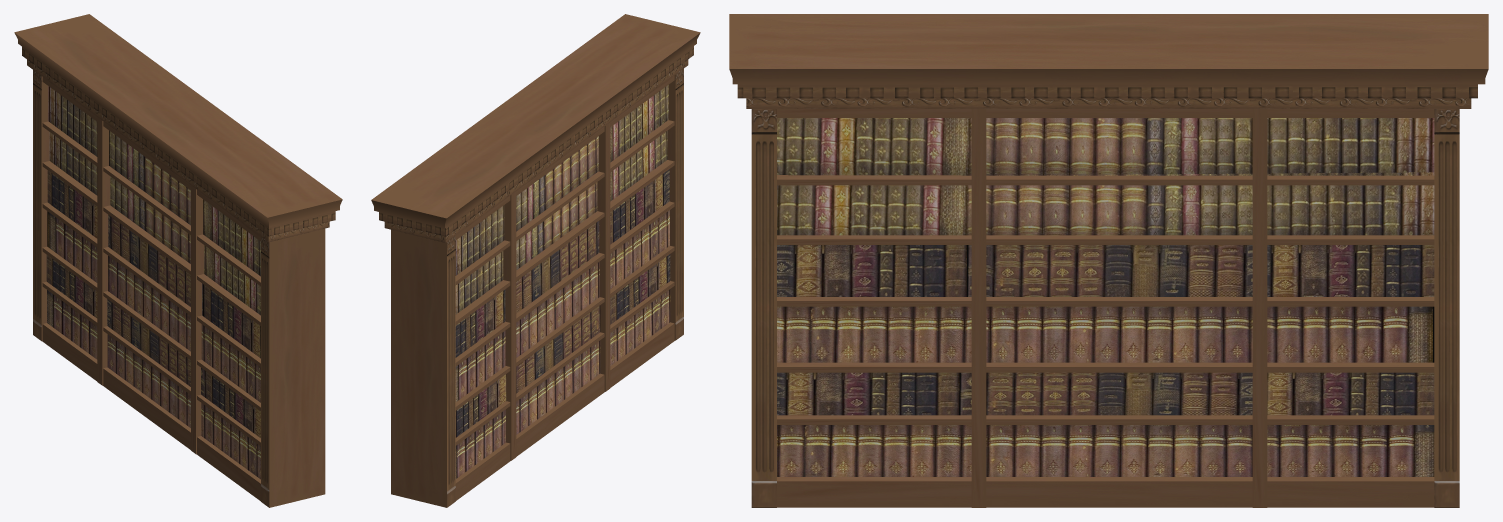
The model's file is long chest book.fbx.
3 renders of one model, left to right at view 1: azimuth 30°, elevation 25°; view 2: azimuth 150°, elevation 25°; view 3: azimuth 270°, elevation 25°, orthographic. The views are drawn at different scales.
Parts seen in each view (by area): view 1: polySurface336; view 2: polySurface336; view 3: polySurface336.
Part boxes in pixels (x1,y1,x2,y2): polySurface336: [14, 14, 342, 507]; polySurface336: [371, 14, 700, 507]; polySurface336: [729, 14, 1488, 507].
Size of the model in its own units: 0.8405 by 3.18 by 4.9.
